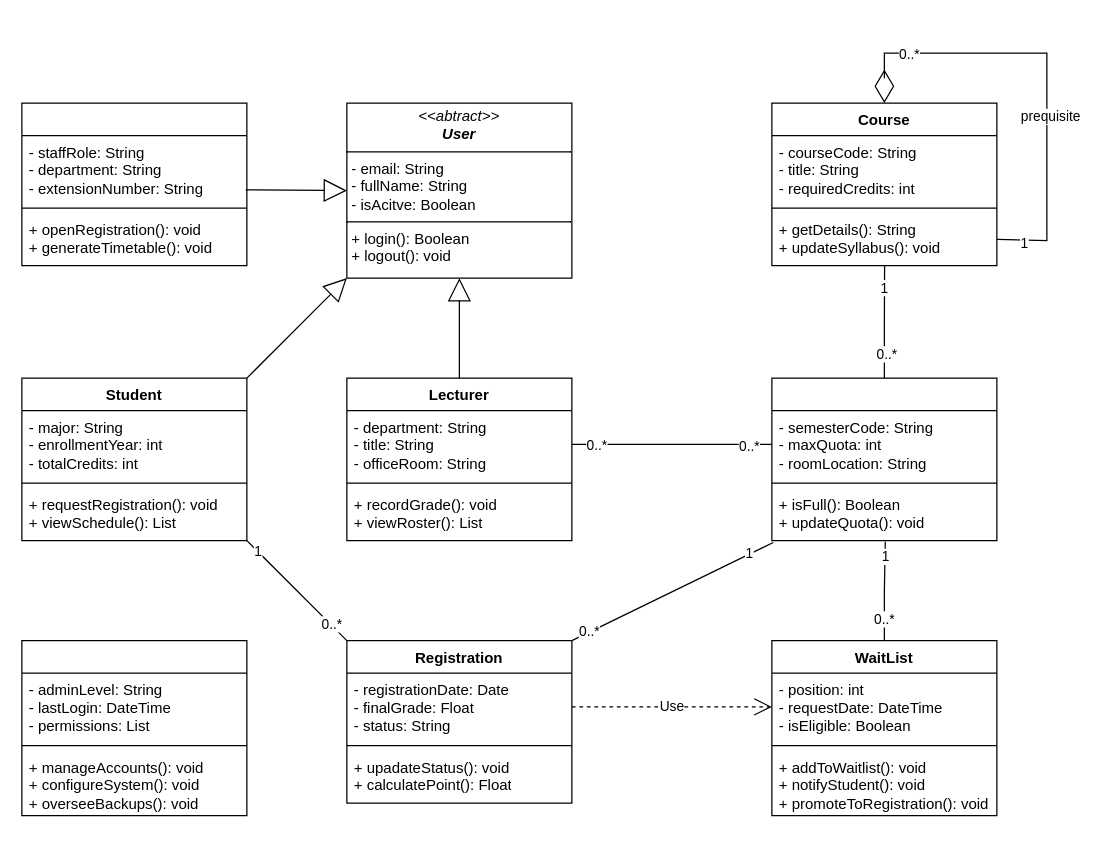
The diagram is 1101 pixels wide and 841 high, and some of its shapes have lost their labels. Here are the shapes that lost their labels. From the top down, the box of each, then its label:
(21, 102, 247, 266): AcademicStaff
(771, 377, 997, 541): CourseOffering
(21, 639, 247, 816): SystemAdmin
